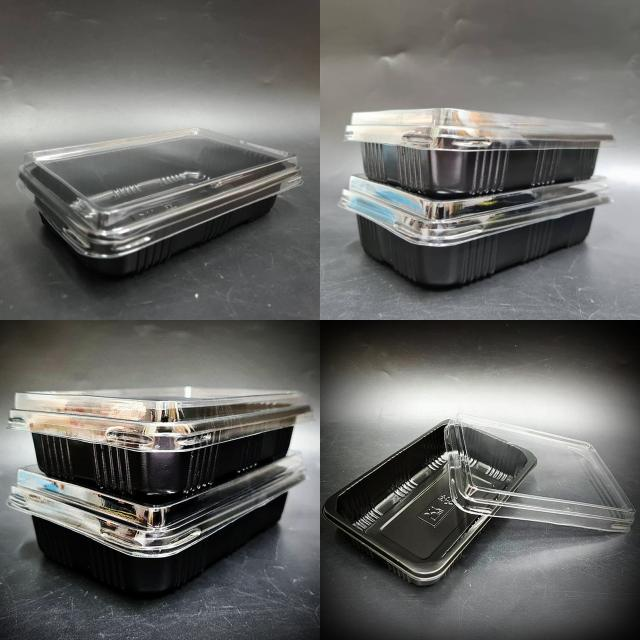Single-Use-Plastic: (8, 436, 305, 594), (18, 129, 302, 276), (322, 422, 536, 585), (9, 386, 310, 498), (340, 175, 610, 288), (345, 108, 614, 198), (445, 414, 635, 532)
